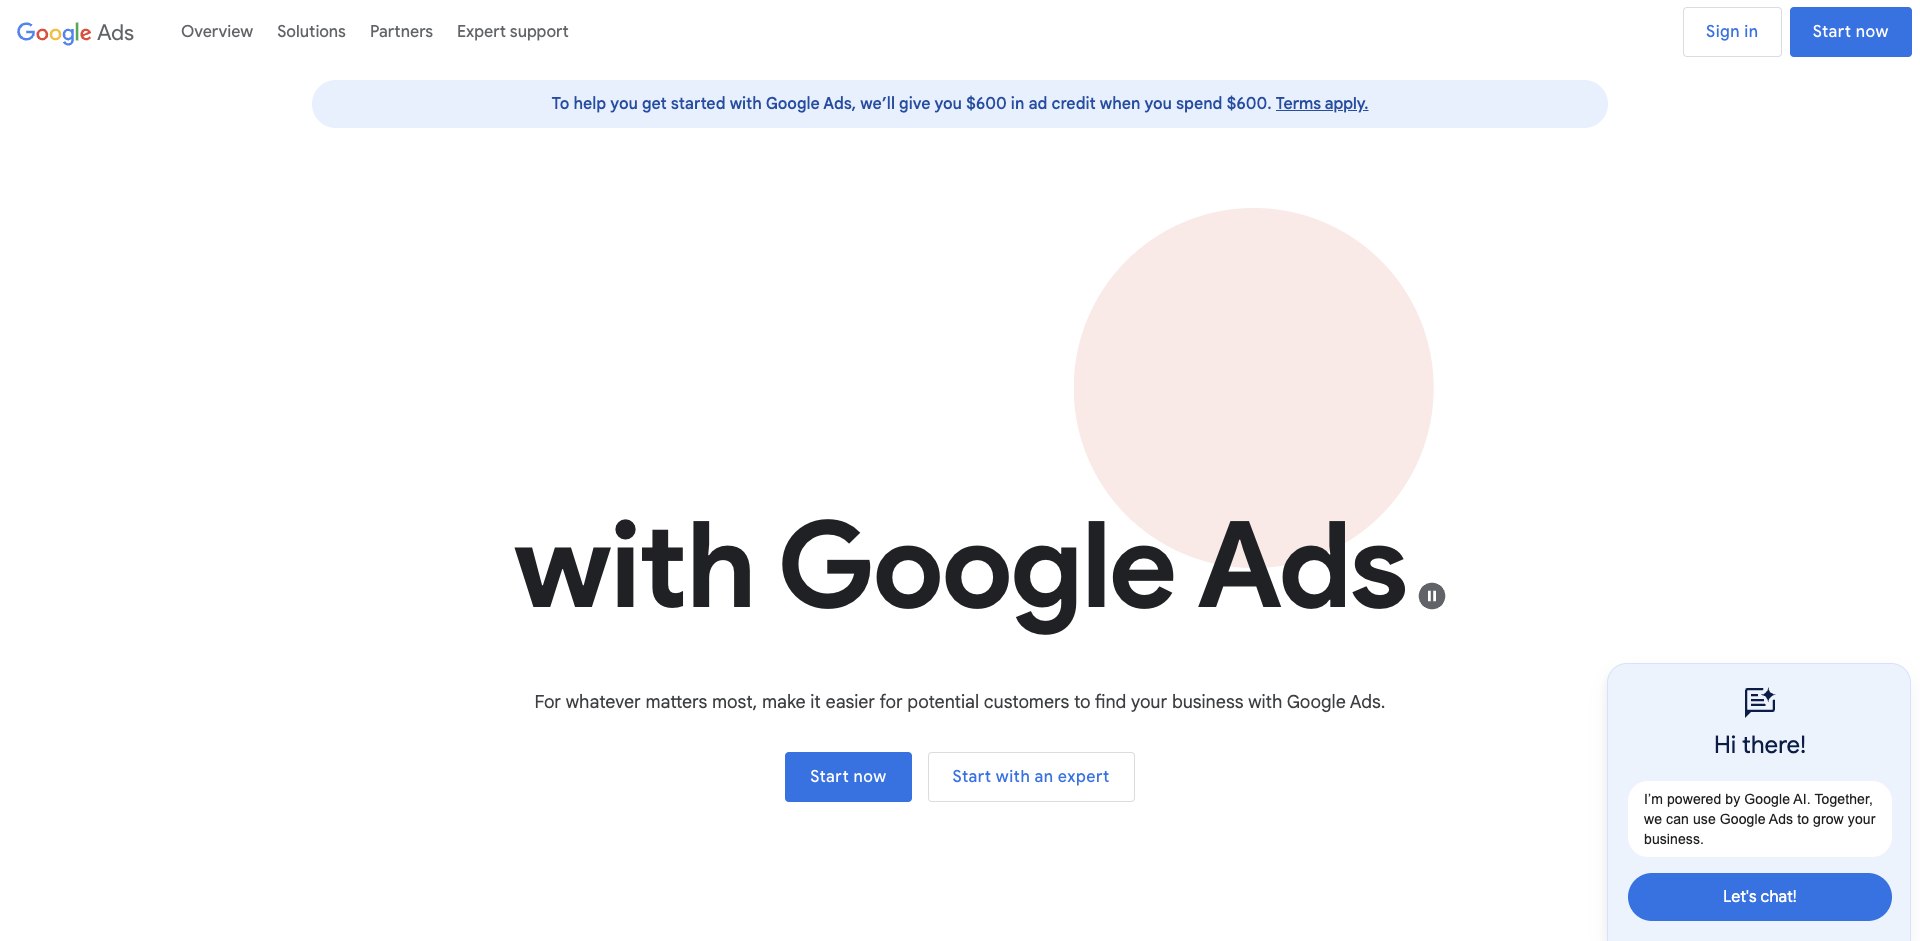button: (1629, 874, 1892, 921), (928, 752, 1135, 803), (785, 752, 911, 803), (1790, 7, 1911, 58), (1682, 7, 1782, 58), (1398, 562, 1466, 630), (1398, 562, 1466, 630), (1608, 685, 1662, 744), (1276, 92, 1369, 116)
link: (444, 9, 580, 56), (9, 9, 143, 56), (1740, 119, 1886, 163), (169, 9, 266, 56), (266, 9, 358, 56), (358, 9, 444, 56)
